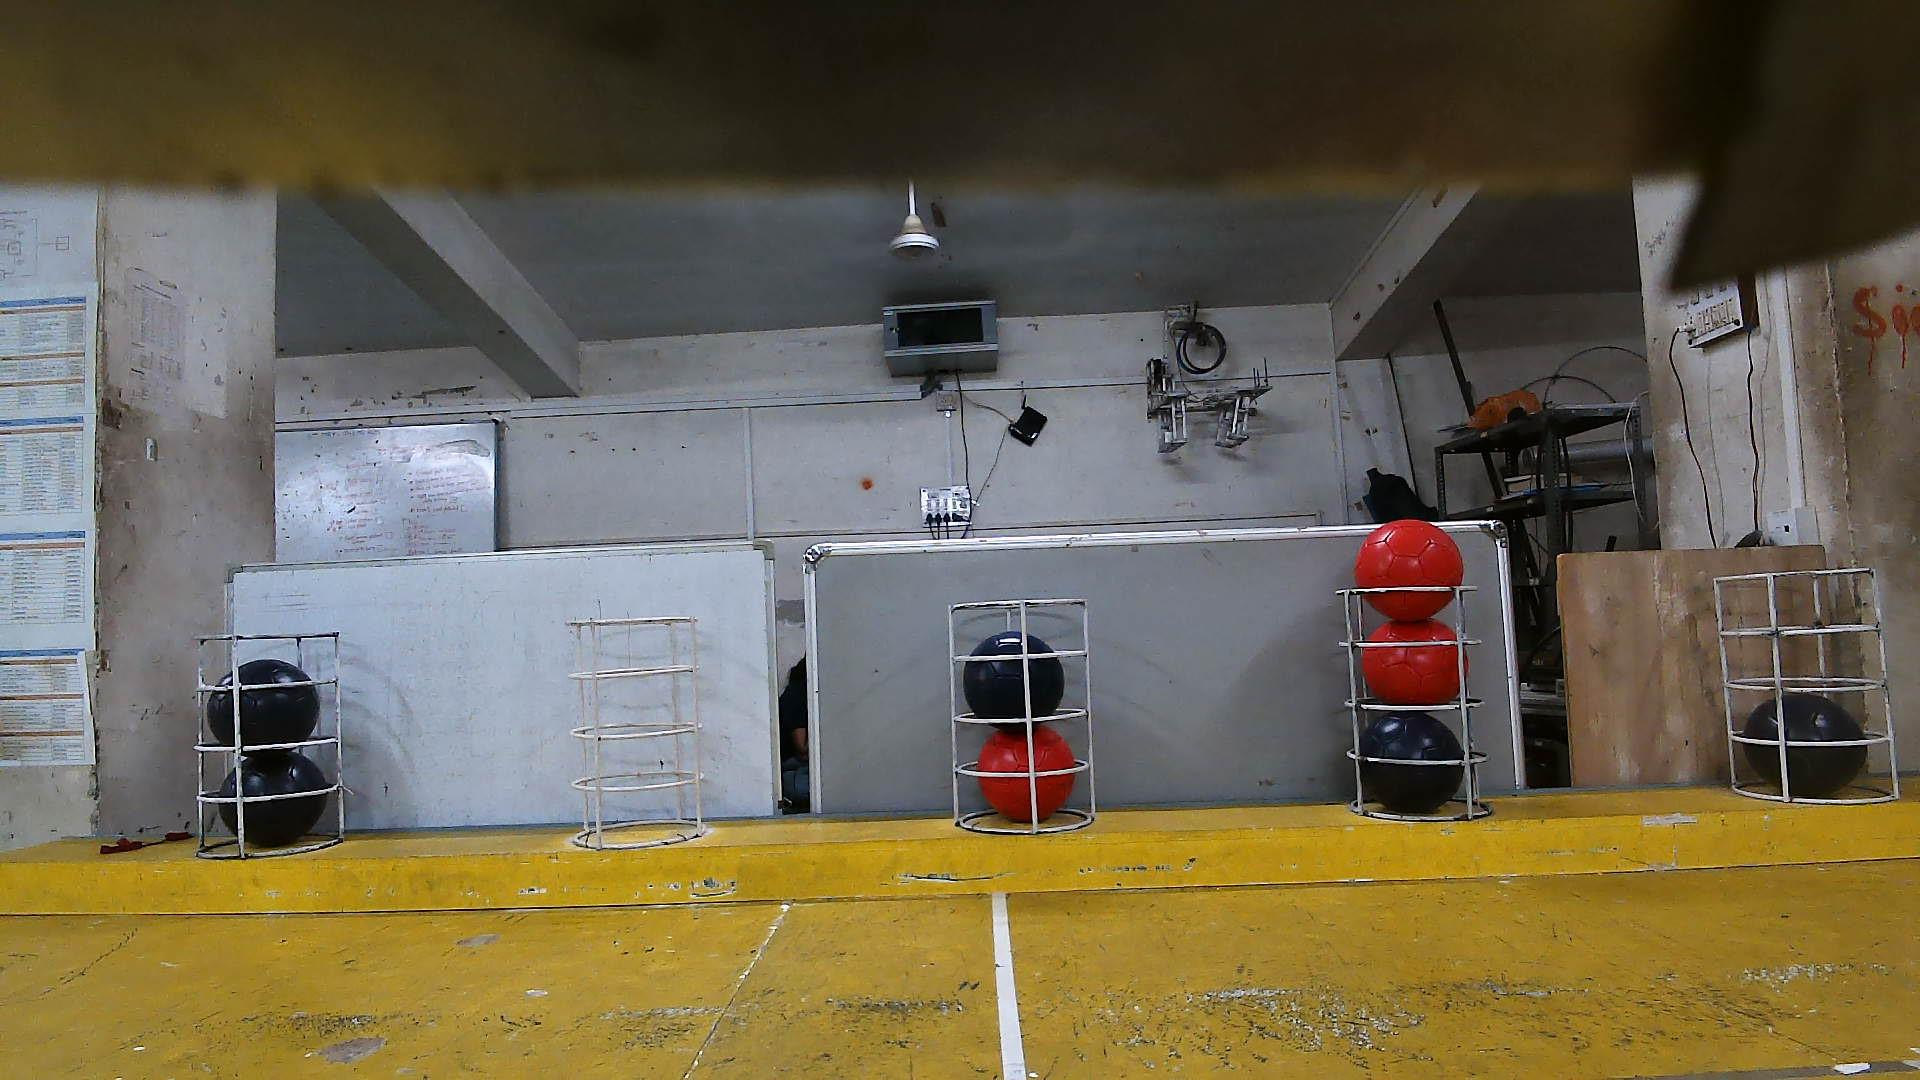dhoka: (1750, 695, 1873, 799), (1364, 712, 1465, 818), (208, 662, 318, 758), (224, 749, 330, 845), (960, 630, 1065, 720)
laale: (1354, 517, 1462, 622), (1362, 615, 1470, 704), (978, 724, 1076, 822)
